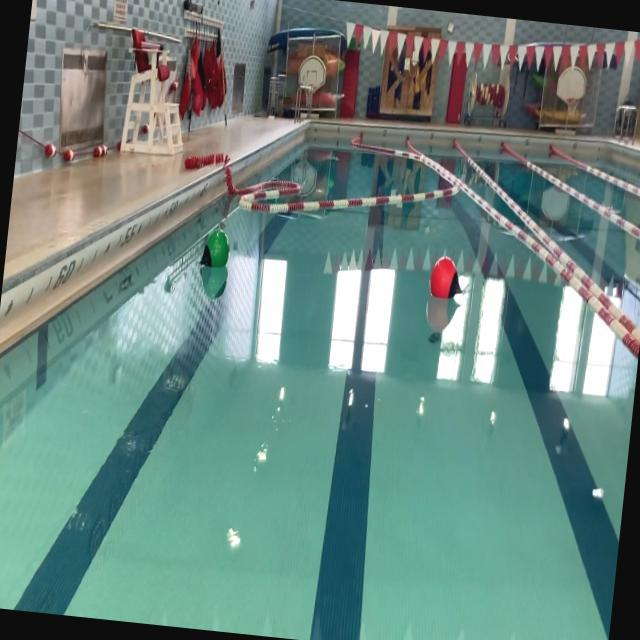buoy: (428, 252, 468, 304), (199, 222, 234, 270)
